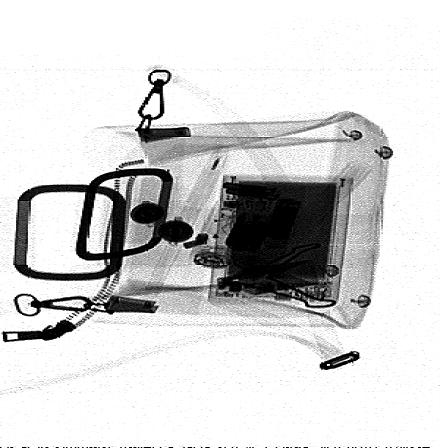Powerbank: (207, 175, 352, 304)
